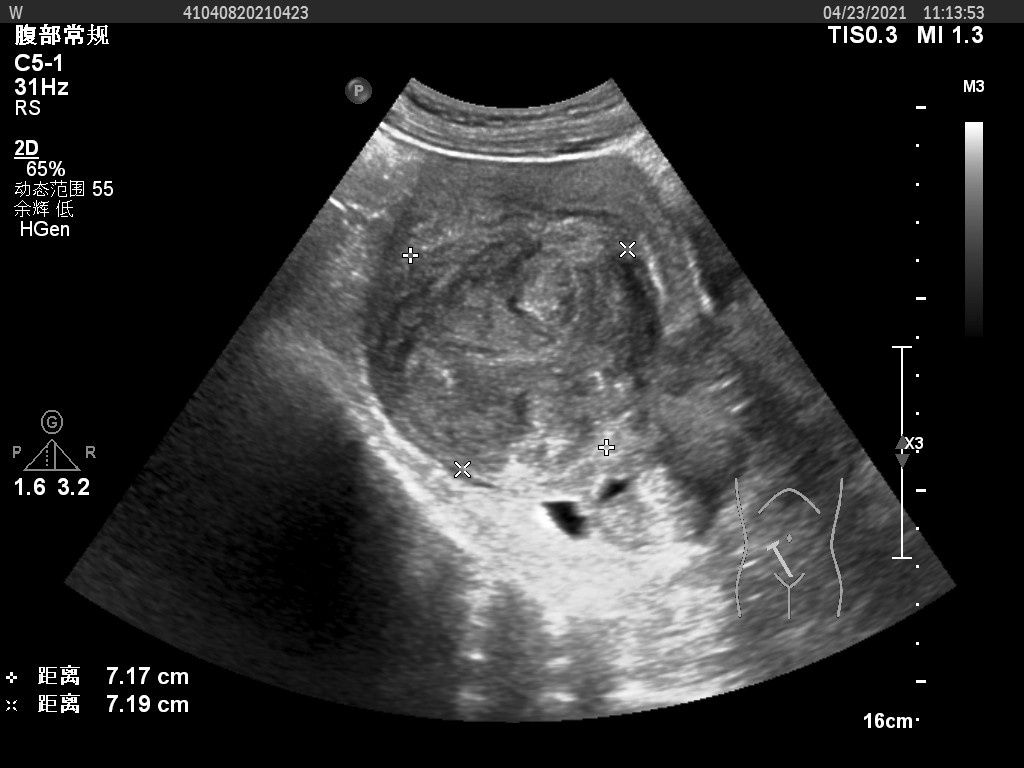肌瘤: (398, 222, 634, 461)
